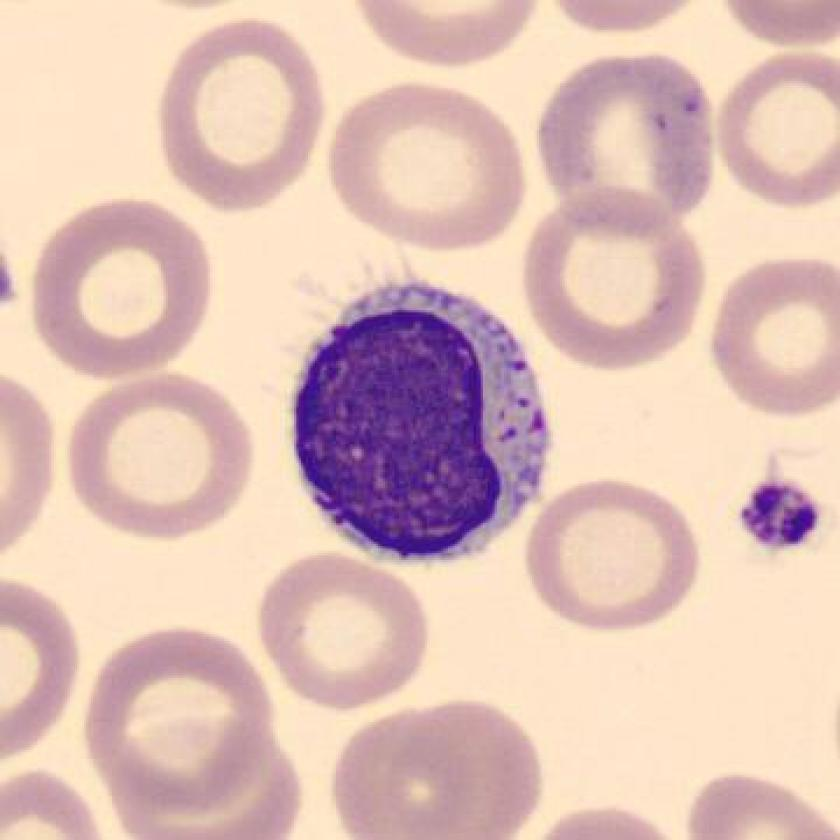lymphocyte: (277, 262, 571, 589)
